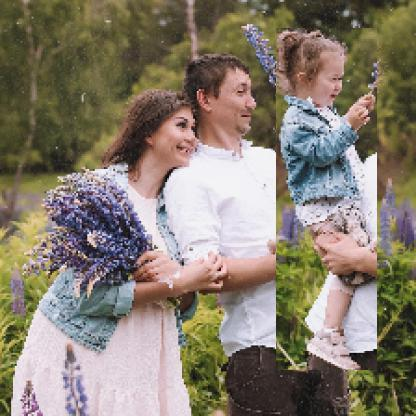child: (277, 29, 379, 372)
